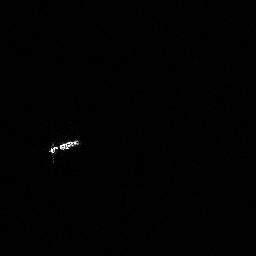ship: (46, 135, 83, 164)
